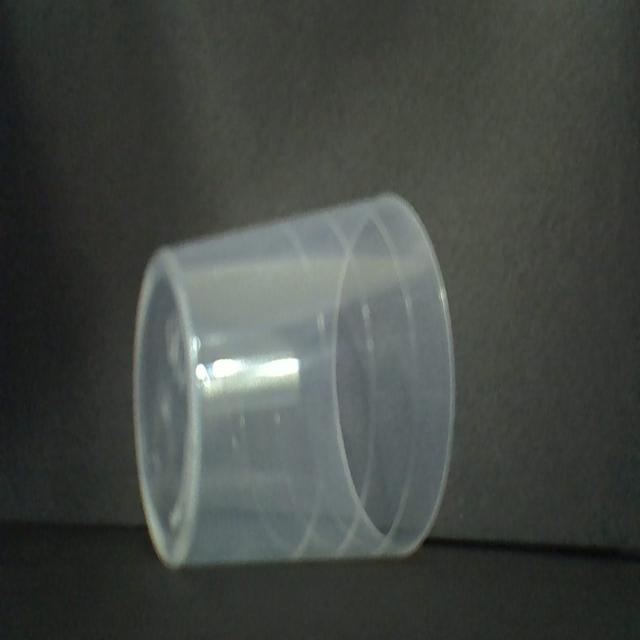cup: (129, 183, 460, 576)
